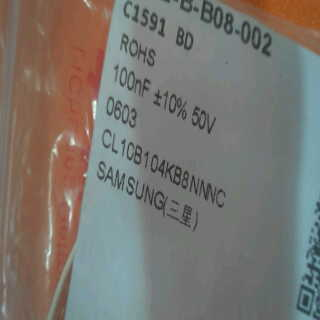100nF: (105, 61, 154, 104)
